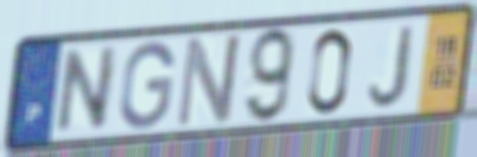0: (306, 26, 354, 117)
9: (243, 25, 297, 127)
G: (116, 38, 178, 132)
J: (365, 22, 419, 111)
N: (172, 30, 245, 132), (51, 43, 122, 138)
